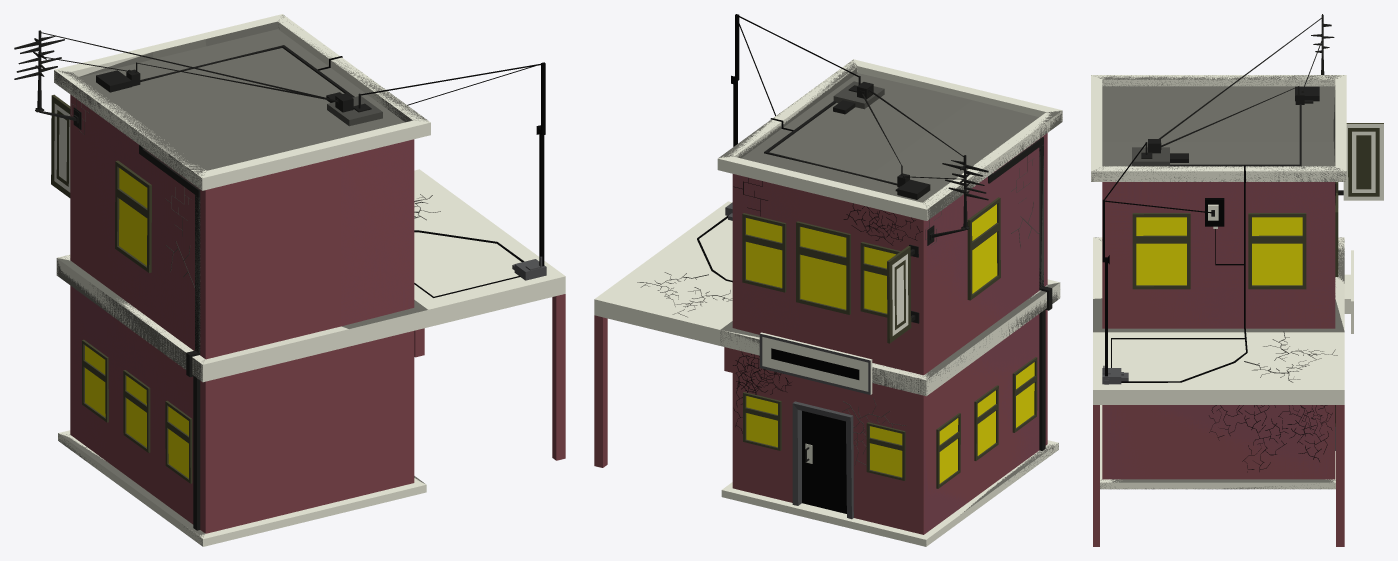
The model's file is New Building 3 A3.fbx.
3 views of the same model, side by side, from view 1: azimuth 30°, elevation 25°; view 2: azimuth 150°, elevation 25°; view 3: azimuth 270°, elevation 25° (orthographic). The views are drawn at different scales.
Visible parts, largest first — view 1: Cube, Cube.001; view 2: Cube, Cube.001; view 3: Cube, Cube.001.
Boxes of the visible parts, box(x1,y1,x2,y2) form: Cube: box(14, 14, 565, 546); Cube.001: box(54, 15, 440, 545); Cube: box(594, 14, 1062, 546); Cube.001: box(637, 59, 1062, 534); Cube: box(1091, 14, 1383, 546); Cube.001: box(1091, 75, 1346, 489).
Bounding box in the file's own units: 529 × 515 × 372.
